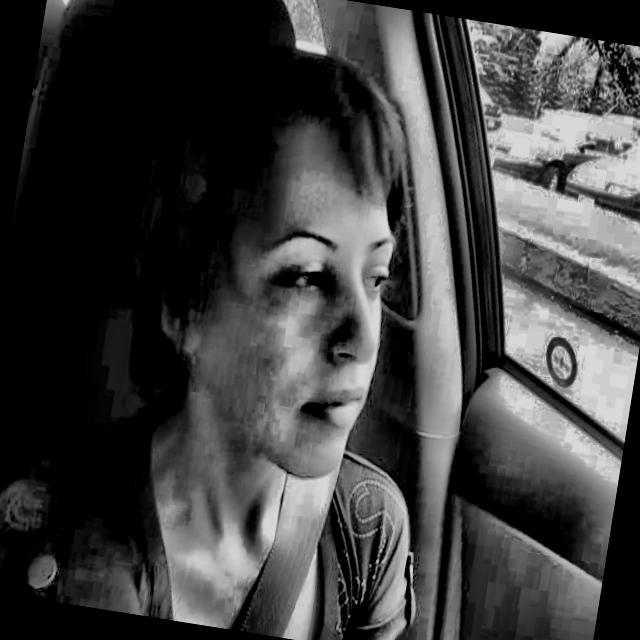closed_mouth: (294, 376, 381, 440)
open_eyes: (258, 252, 338, 306), (354, 253, 401, 301)
